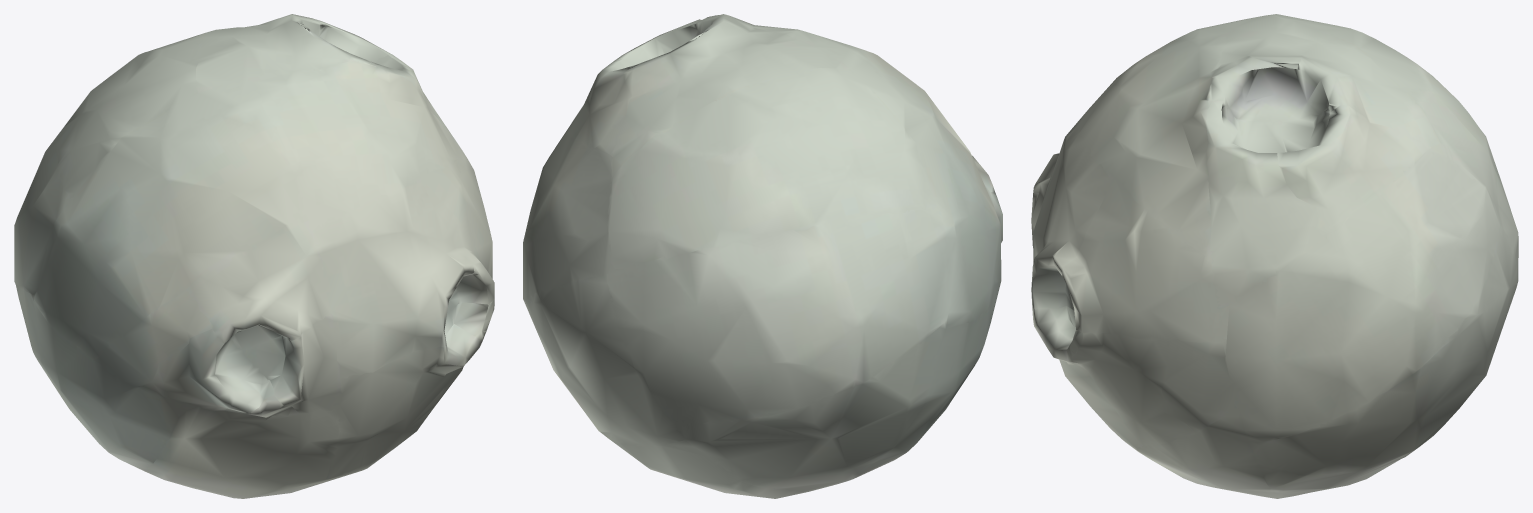
The model's file is lune.glb.
3 renders of one model, left to right at view 1: azimuth 30°, elevation 25°; view 2: azimuth 150°, elevation 25°; view 3: azimuth 270°, elevation 25°, orthographic.
Parts seen in each view (by area): view 1: mesh_node; view 2: mesh_node; view 3: mesh_node.
Part boxes in pixels (x1,y1,x2,y2): mesh_node: (14,14,494,498); mesh_node: (523,14,1002,498); mesh_node: (1031,14,1518,498).
Size of the model in its own units: 1.89 by 1.9 by 1.88.
Materials: 1 (1 with a texture image).
